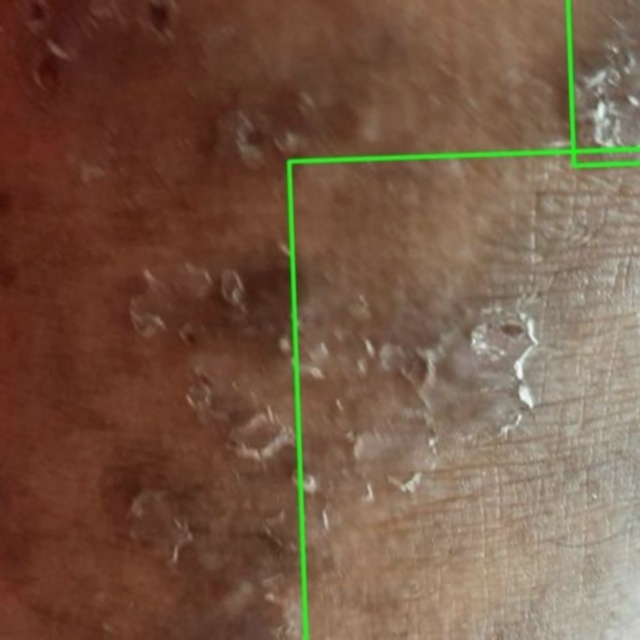Tinea Corporis: (289, 150, 639, 639)
